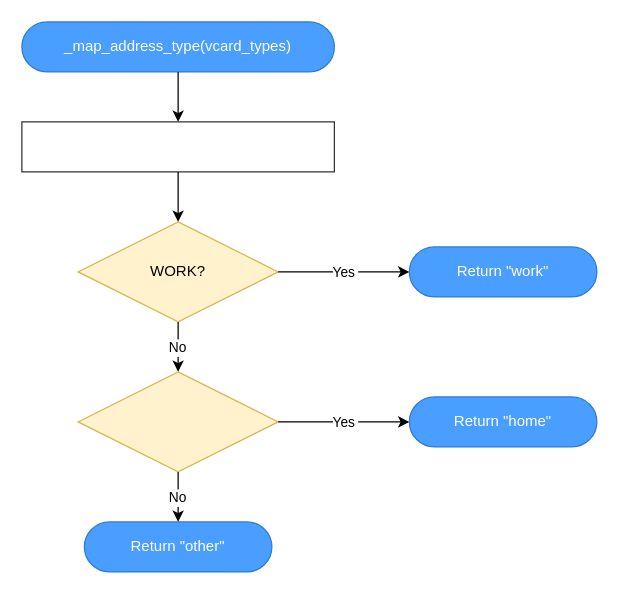
The diagram is 619 pixels wide and 594 high, and some of its shapes have lost their labels. The shapes that lost their labels are listed below. From the top down, each one's box as (x1, y1, x2, y2) in pixels, then its label:
(21, 121, 334, 172): Uppercase all type values
(77, 371, 278, 472): HOME?
